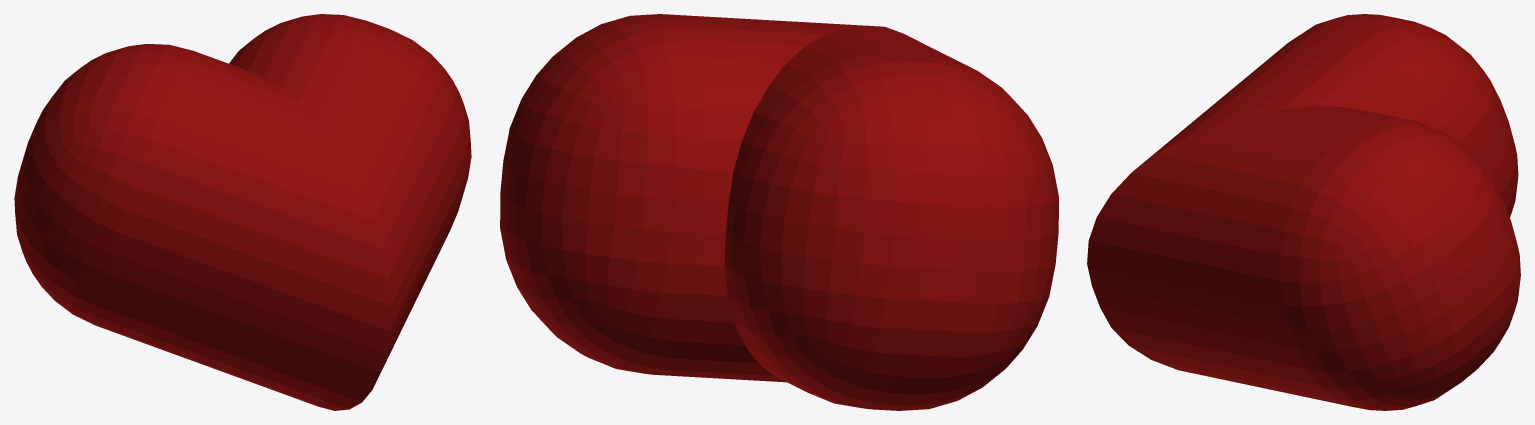
Rendered from heart2.fbx.
3 renders of one model, left to right at view 1: azimuth 30°, elevation 25°; view 2: azimuth 150°, elevation 25°; view 3: azimuth 270°, elevation 25°, orthographic. The views are drawn at different scales.
Parts seen in each view (by area): view 1: Cube; view 2: Cube; view 3: Cube.
Part boxes in pixels (left/top/right/bottom): Cube: left=14, top=14, right=471, bottom=410; Cube: left=500, top=14, right=1058, bottom=410; Cube: left=1087, top=14, right=1520, bottom=410.
Size of the model in its own units: 372 by 263 by 332.
